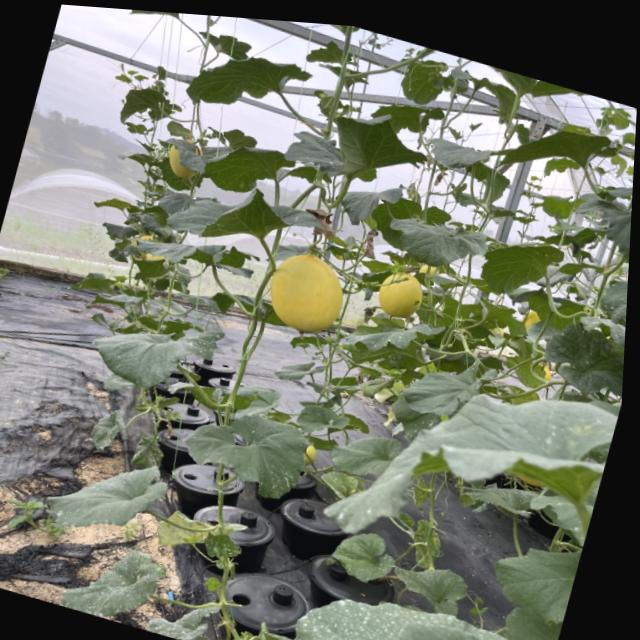healthy: (278, 87, 422, 199), (181, 32, 314, 135), (201, 131, 322, 217), (473, 223, 572, 312), (377, 204, 491, 281), (393, 39, 542, 95), (564, 183, 633, 271)
powdery mildew: (257, 554, 561, 640), (173, 390, 322, 509), (86, 295, 233, 412), (50, 528, 179, 635)
